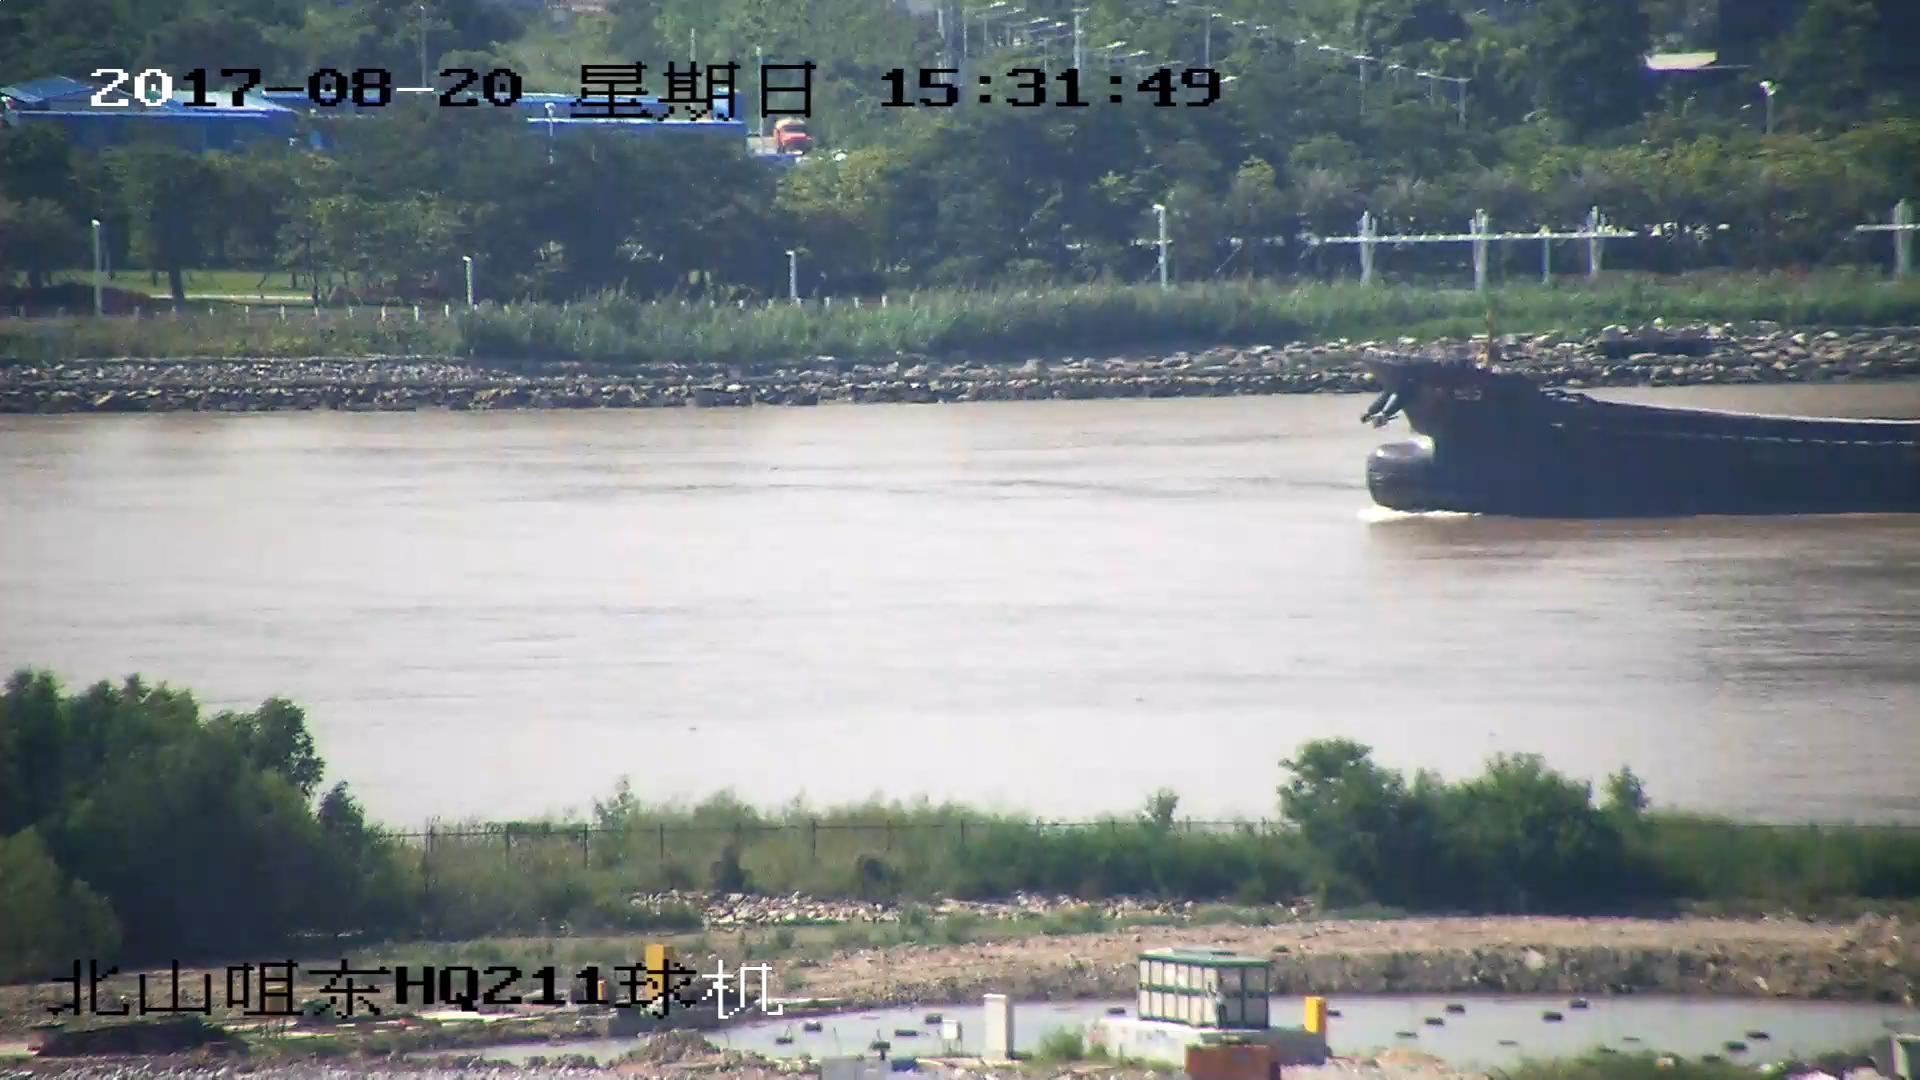Ship: (1364, 353, 1920, 514)
